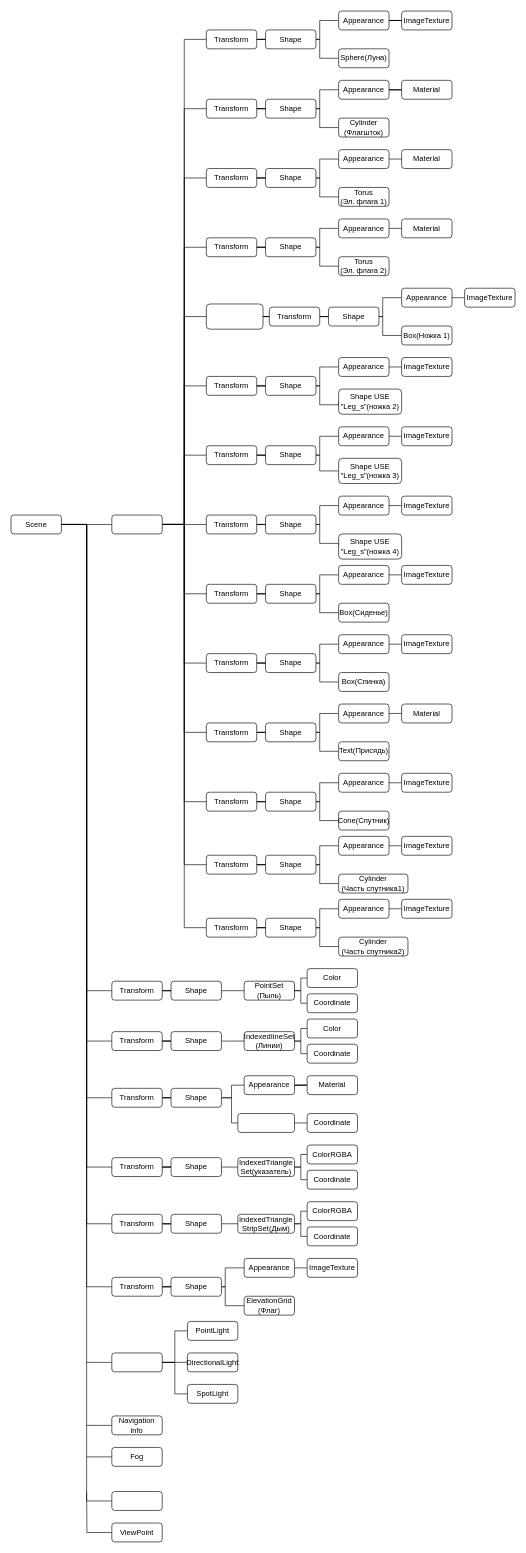
The diagram is 526 pixels wide and 1553 high, and some of its shapes have lost their labels. Each missing label, with the centre of its shape:
Background: (x=136, y=1500)
Collision: (x=136, y=524)
Group (DEF="Leg_s"): (x=234, y=316)
Group(Light): (x=136, y=1362)
IndexedFaceSet (Звезда): (x=266, y=1122)
